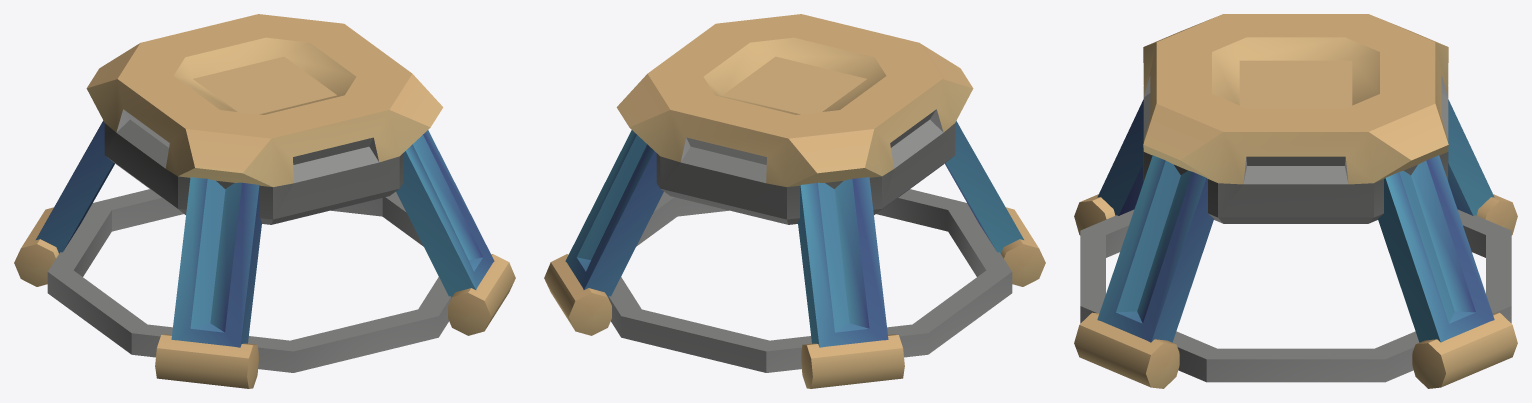
Rendered from wall_segment.glb.
3 views of the same model, side by side, from view 1: azimuth 30°, elevation 25°; view 2: azimuth 150°, elevation 25°; view 3: azimuth 270°, elevation 25° (orthographic). The views are drawn at different scales.
Bounding box in the file's own units: 1.75 × 1 × 1.75.
